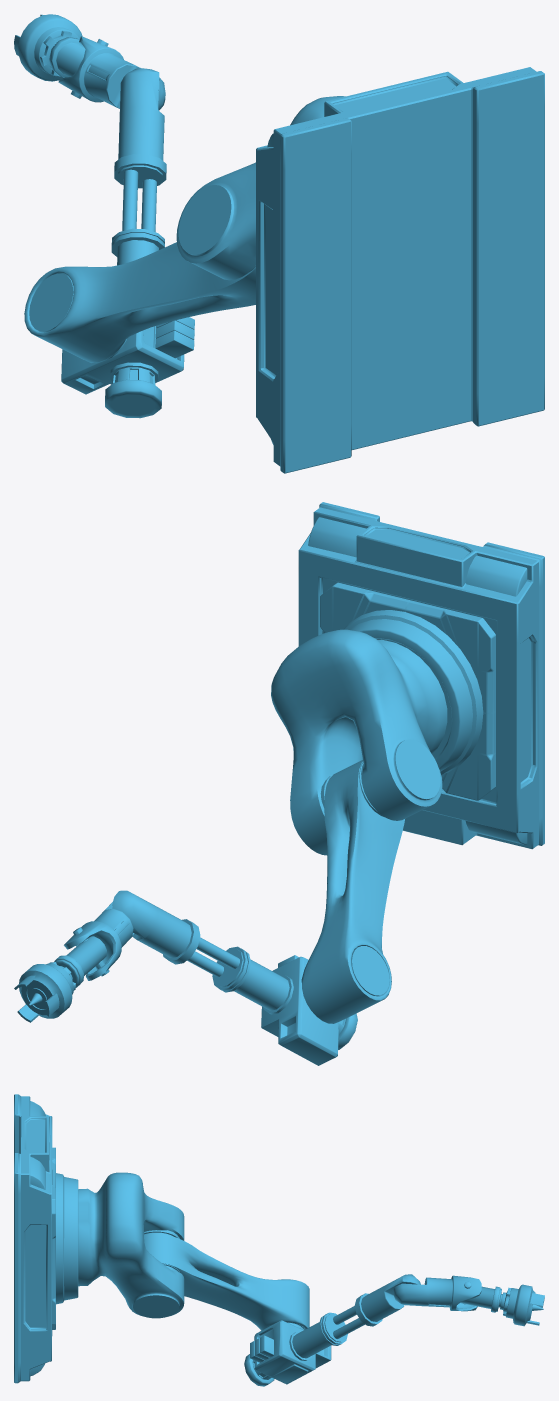
Rendered from arm_pose_snapshot3.fbx.
The picture shows the model from 3 angles, top to bottom: view 1: azimuth 30°, elevation 25°; view 2: azimuth 150°, elevation 25°; view 3: azimuth 270°, elevation 25°; orthographic projection. The views are drawn at different scales.
Visible parts, largest first — view 1: arm_base_tank, arm_01, arm_02, arm_turret, arm_joint_01, arm_joint_02, arm_end_02, arm_extend, arm_end_01; view 2: arm_base_tank, arm_turret, arm_01, arm_02, arm_joint_01, arm_end_02, arm_joint_02, arm_end_01, arm_extend; view 3: arm_base_tank, arm_turret, arm_01, arm_02, arm_joint_02, arm_joint_01, arm_end_02, arm_end_01, arm_extend.
Part boxes in pixels (<box>): arm_base_tank: <box>256,67,544,473</box>; arm_01: <box>24,242,255,362</box>; arm_02: <box>61,228,194,418</box>; arm_turret: <box>176,96,345,280</box>; arm_joint_01: <box>114,68,166,188</box>; arm_joint_02: <box>58,36,165,110</box>; arm_end_02: <box>14,14,82,81</box>; arm_extend: <box>122,169,156,231</box>; arm_end_01: <box>40,30,108,98</box>; arm_base_tank: <box>298,502,544,849</box>; arm_turret: <box>271,629,447,855</box>; arm_01: <box>301,760,404,1023</box>; arm_02: <box>212,946,357,1065</box>; arm_joint_01: <box>112,890,200,964</box>; arm_end_02: <box>14,963,73,1022</box>; arm_joint_02: <box>64,902,134,980</box>; arm_end_01: <box>49,927,109,990</box>; arm_extend: <box>187,937,239,976</box>; arm_base_tank: <box>14,1094,78,1383</box>; arm_turret: <box>78,1172,184,1318</box>; arm_01: <box>144,1230,309,1330</box>; arm_02: <box>244,1312,347,1386</box>; arm_joint_02: <box>392,1275,481,1311</box>; arm_joint_01: <box>354,1274,420,1326</box>; arm_end_02: <box>506,1284,544,1326</box>; arm_end_01: <box>460,1281,511,1315</box>; arm_extend: <box>333,1306,364,1338</box>.
Size of the model in its own units: 228 by 327 by 572.
